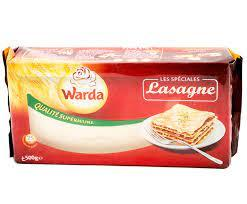lasagne: (7, 46, 241, 167)
